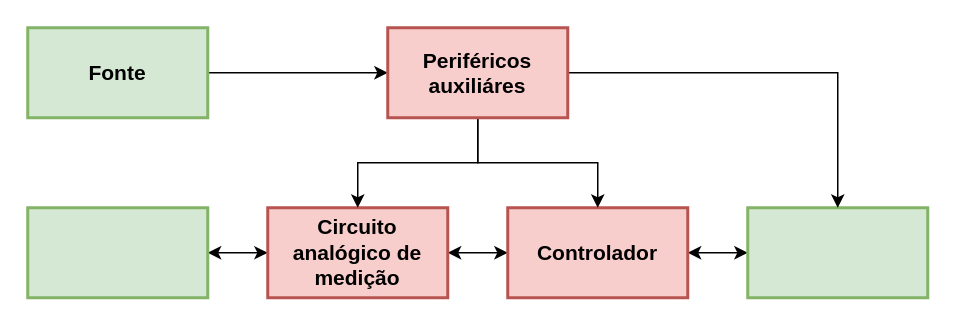
This 954x324 diagram has some shape labels left out. The box of each missing label's shape, as (x1, y1, x2, y2) in pixels:
Dispositivo em teste: (26, 206, 208, 298)
Interface com o usuário: (746, 206, 928, 298)
